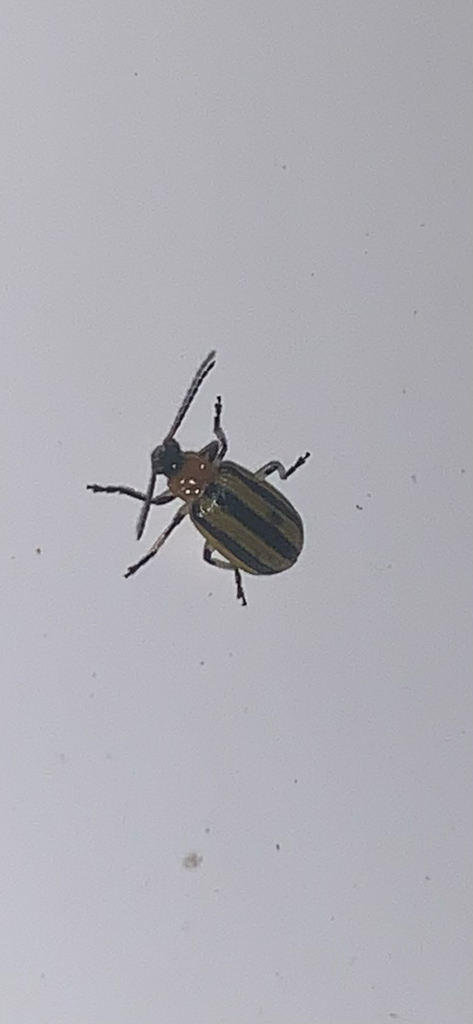potato_beetle: (48, 300, 378, 672)
